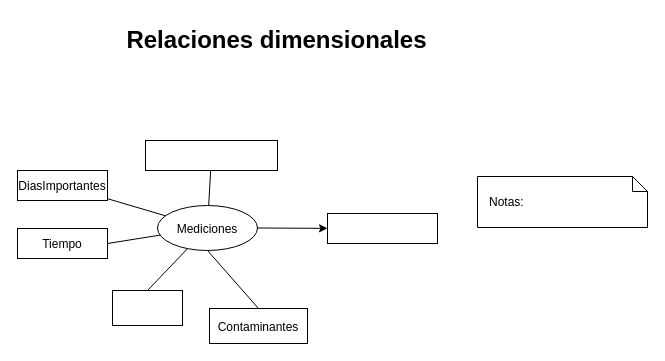
This 665x361 diagram has some shape labels left out. The centre of each missing label's shape, as x and y in pixels:
"M_Mediciones" goes at (382,228).
"Metodos" goes at (147,308).
"UbicacionGeografica" goes at (211,155).
